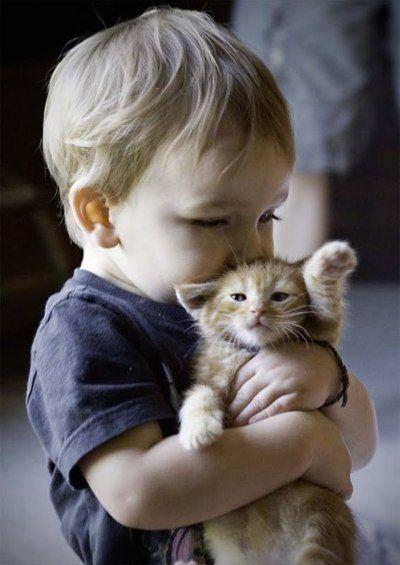kedo: (178, 256, 356, 344)
